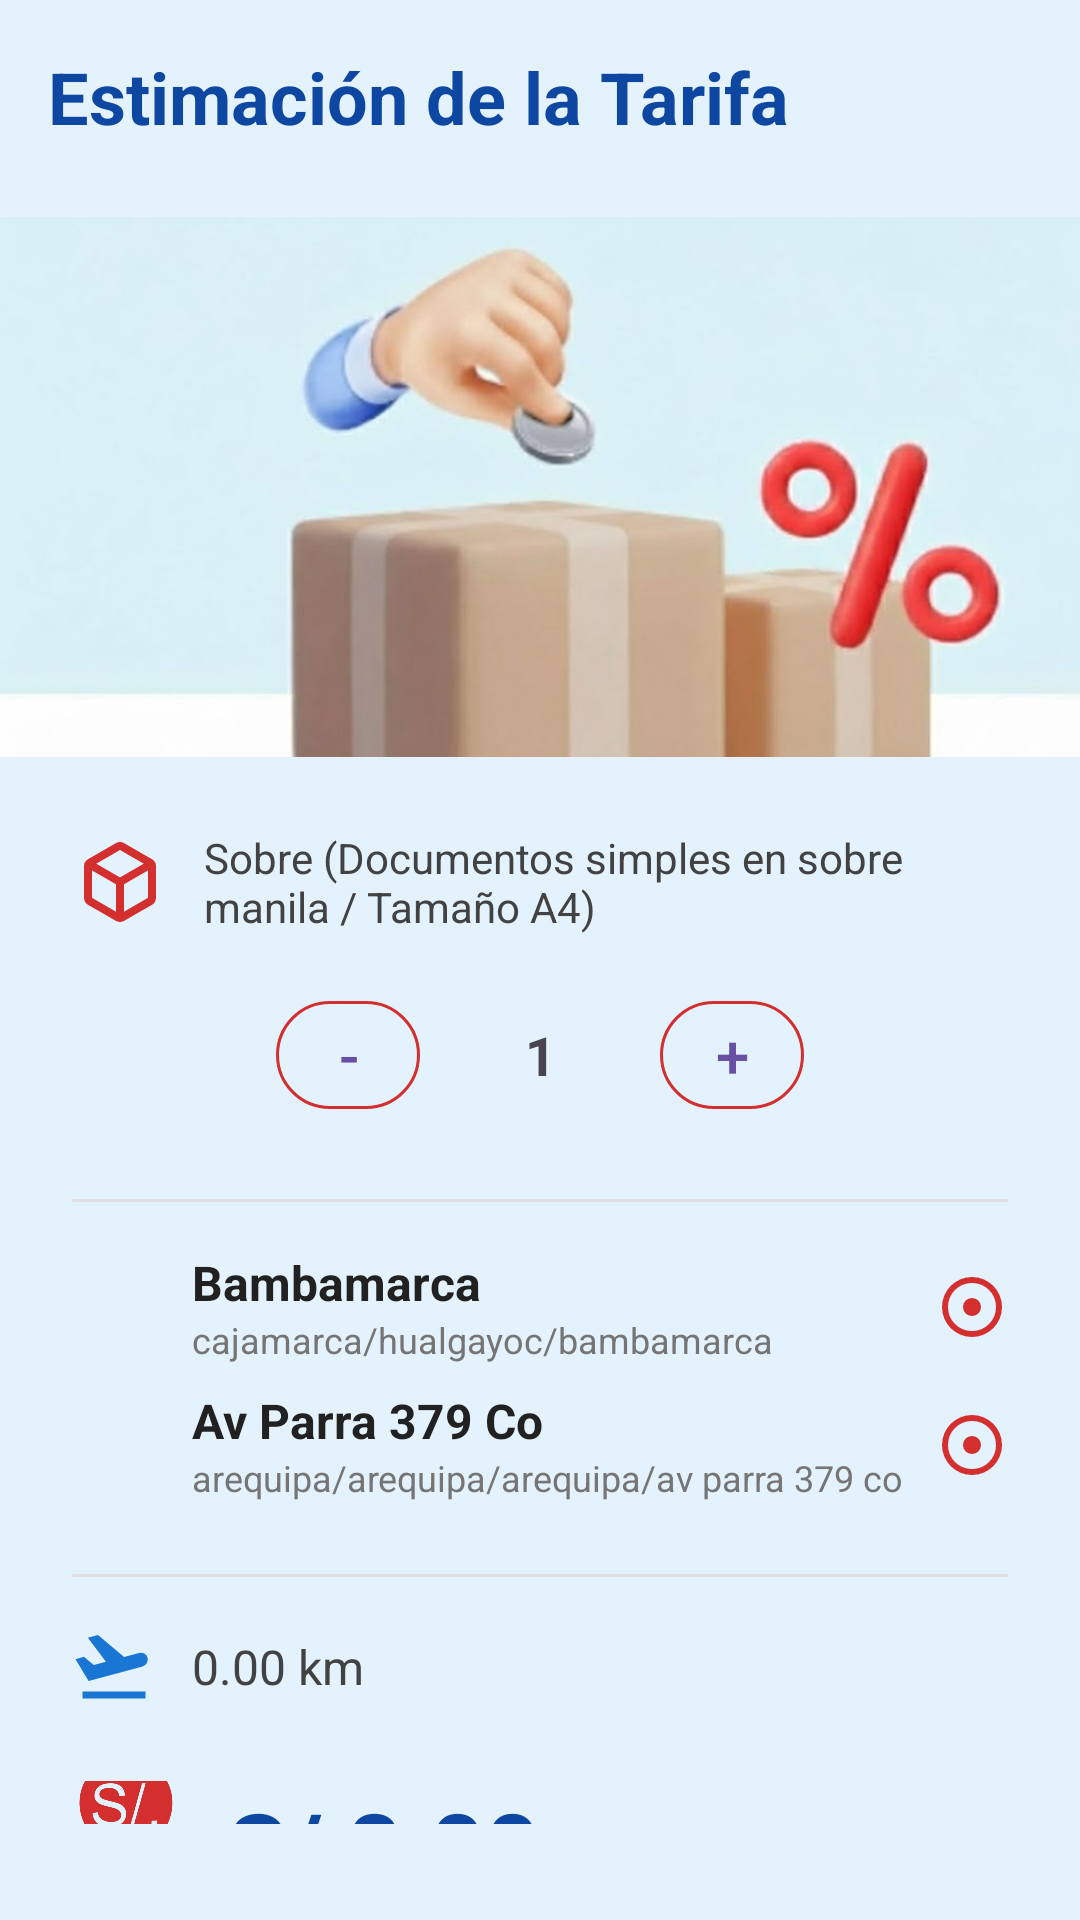

Icon click points for this 1080×1920 phone screenshot, format (x,y):
adjust: (972,1307), (972,1445)
deployed code: (120,882)
flight takeoff: (111,1667)
